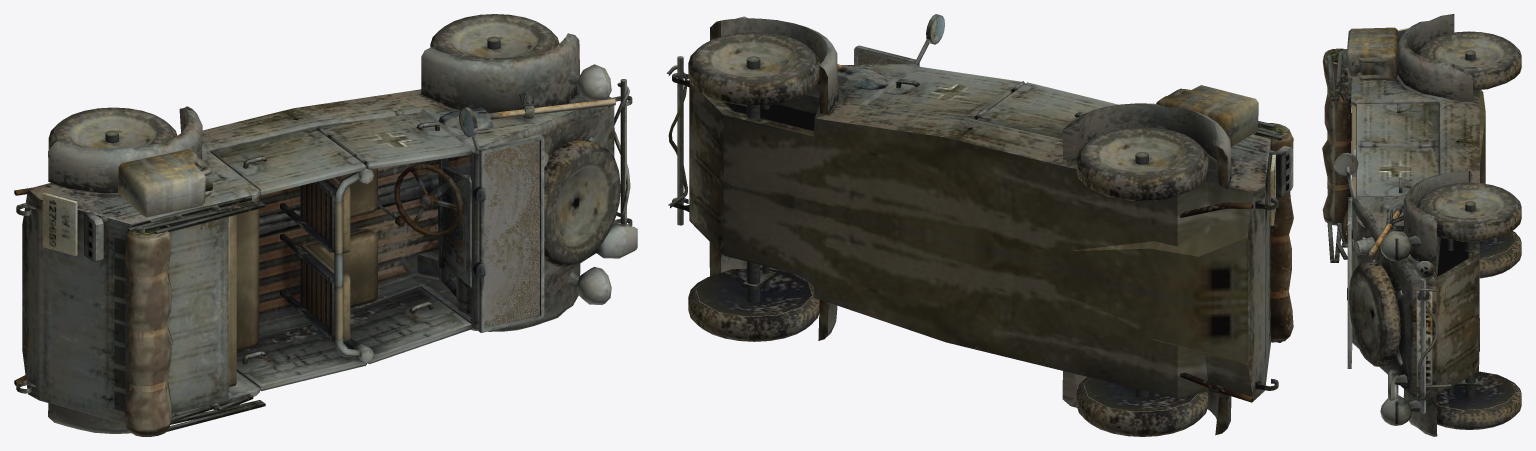
File: vehicle_german_kubel_nomandy.glb
3 views of the same model, side by side, from view 1: azimuth 30°, elevation 25°; view 2: azimuth 150°, elevation 25°; view 3: azimuth 270°, elevation 25° (orthographic). The views are drawn at different scales.
Size of the model in its own units: 153 by 68.92 by 53.76.
Materials: 2 (2 with a texture image).
